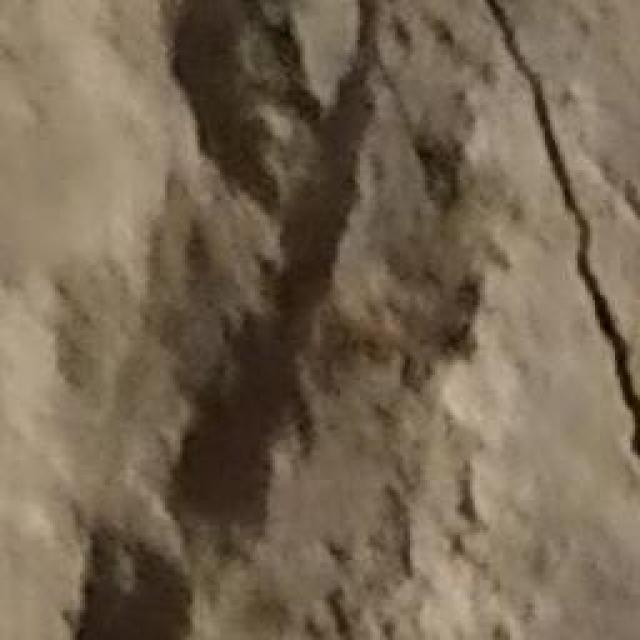Longitudinal: (464, 0, 640, 454)
Rippled: (0, 7, 457, 634)
